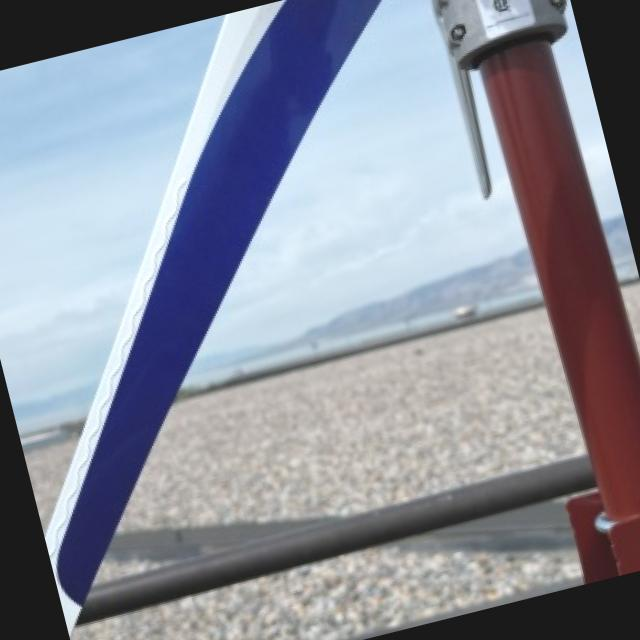healthy: (72, 547, 574, 640)
